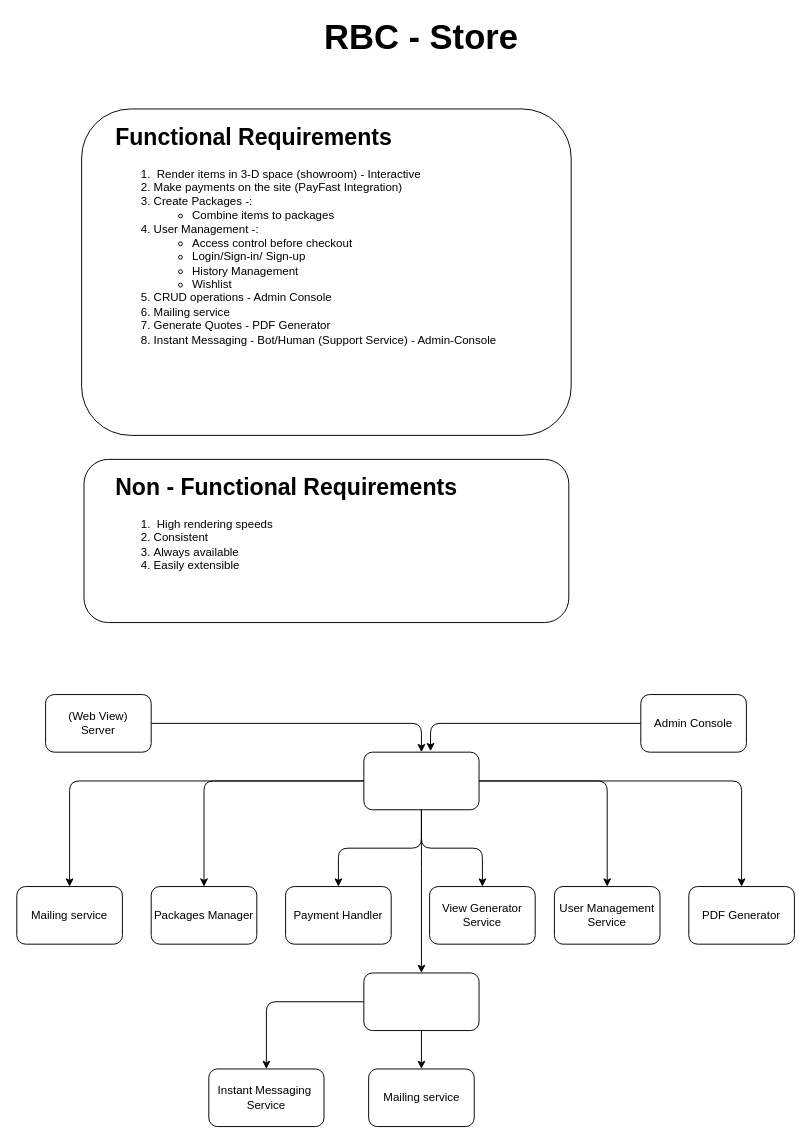
This 811x1143 diagram has some shape labels left out. The shapes that lost their labels are listed below. From the top down, each one's box as (x1, y1, x2, y2) in pixels, then its label:
(363, 751, 479, 810): System Manager Service
(363, 972, 479, 1031): Support Service
